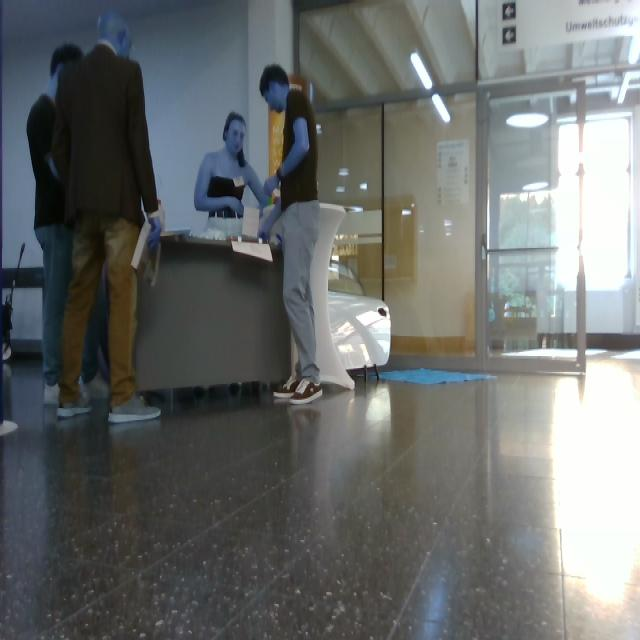desk: (136, 234, 291, 390)
light bulb: (506, 100, 551, 129), (559, 125, 582, 176), (411, 53, 433, 90), (629, 34, 640, 65)
person: (52, 14, 160, 420), (260, 65, 321, 404), (27, 45, 82, 404), (196, 113, 272, 218), (82, 292, 108, 390)
table: (310, 205, 354, 389)
tiled floor: (1, 361, 640, 640)
